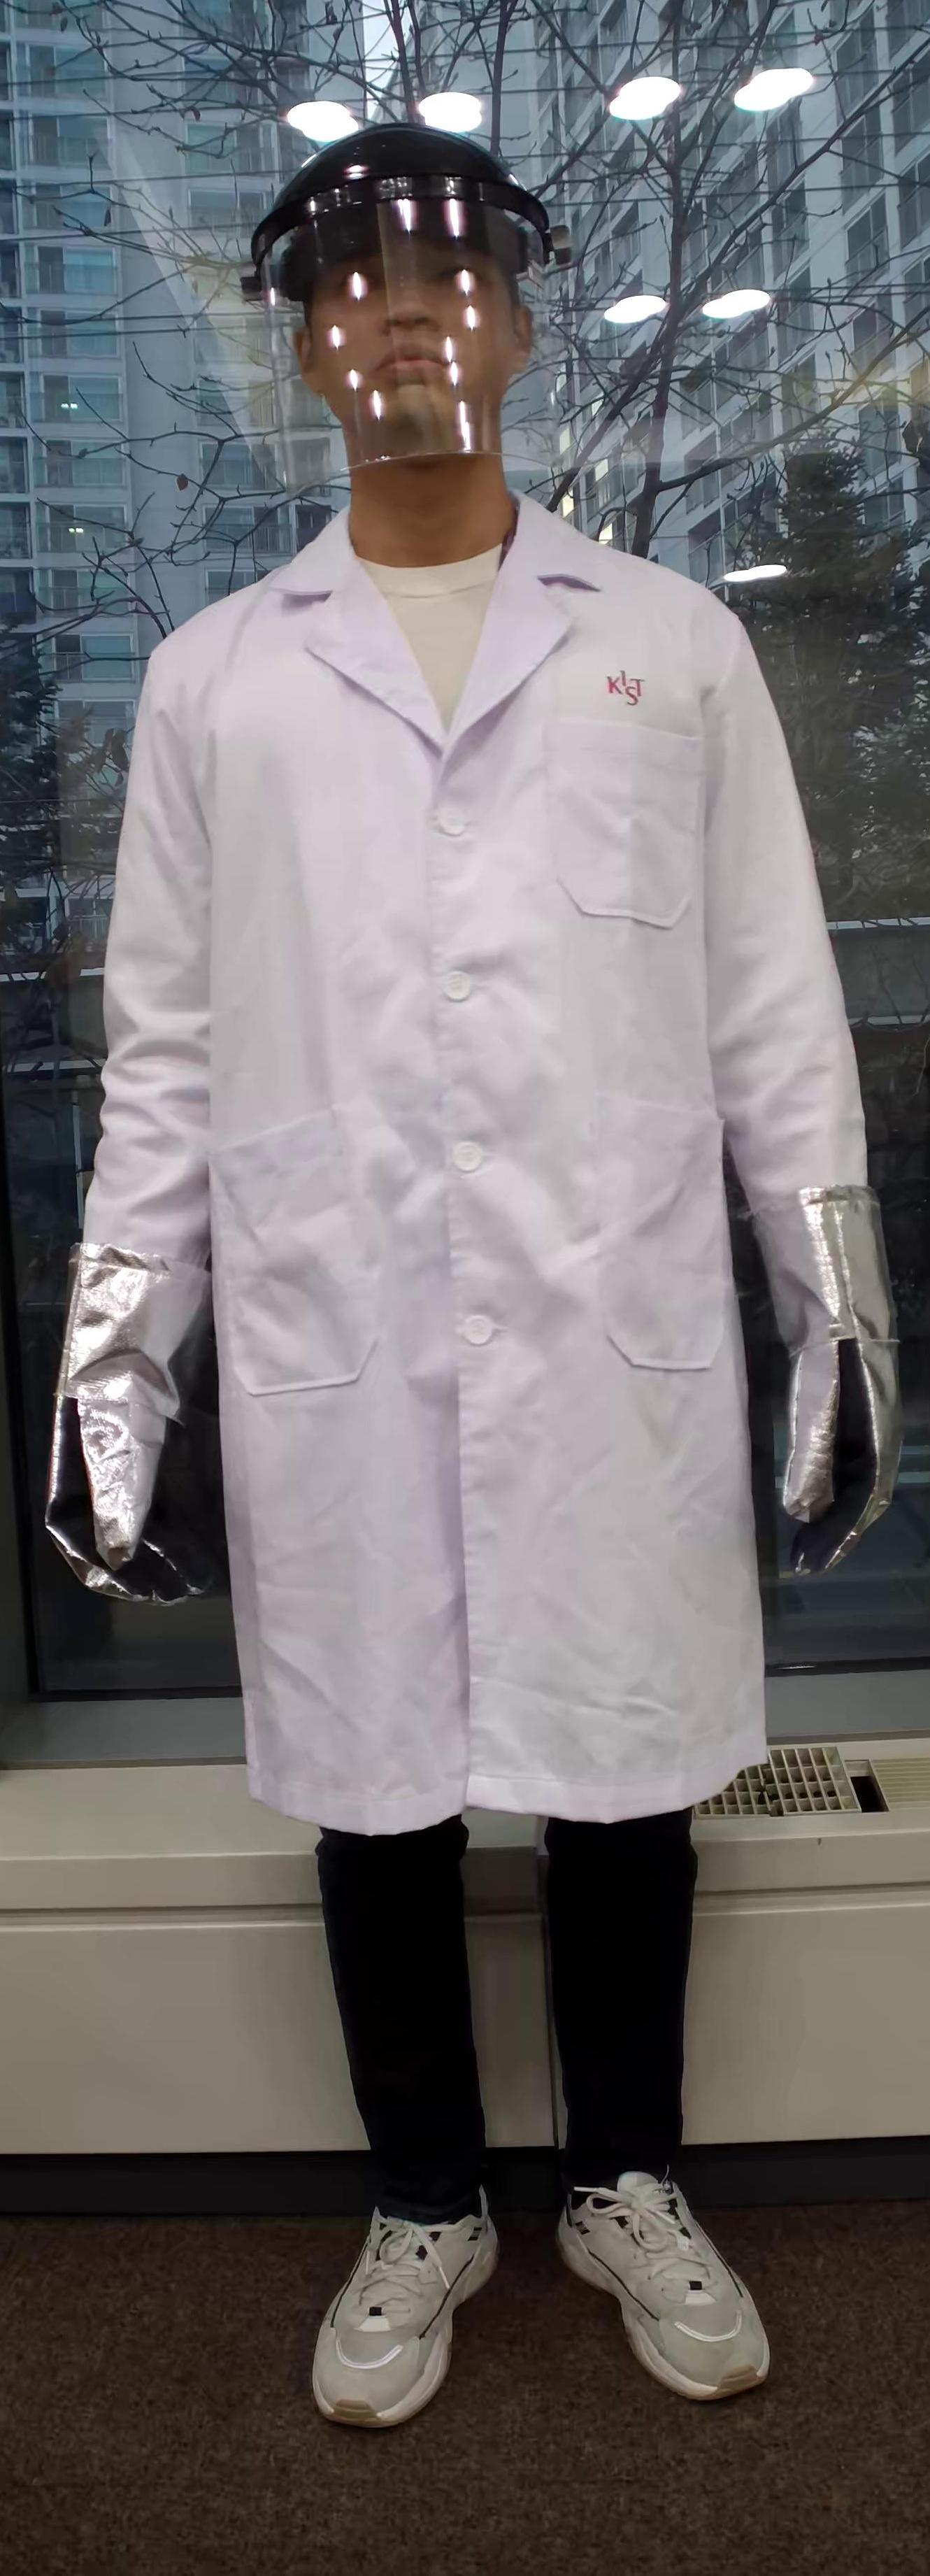lab_coat: (246, 554, 736, 1830)
